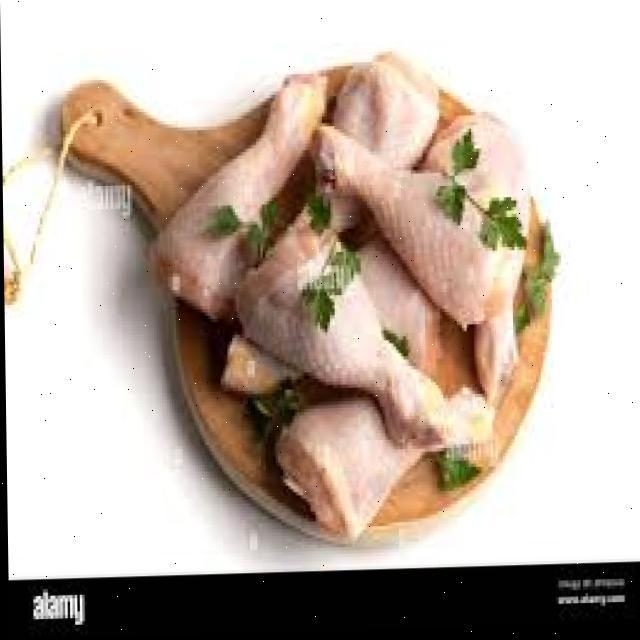leg: (314, 113, 526, 324), (264, 208, 438, 443), (162, 71, 312, 306), (288, 387, 486, 524), (438, 106, 529, 400), (310, 42, 435, 247)
